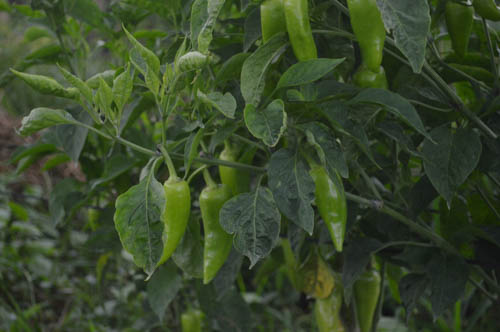ChiliPepper: (312, 168, 349, 254), (197, 189, 230, 281), (162, 183, 193, 273), (349, 3, 381, 67), (285, 1, 317, 60), (350, 275, 380, 327), (217, 152, 251, 189), (257, 4, 283, 43), (450, 6, 468, 56), (311, 296, 339, 328), (360, 64, 385, 89)
